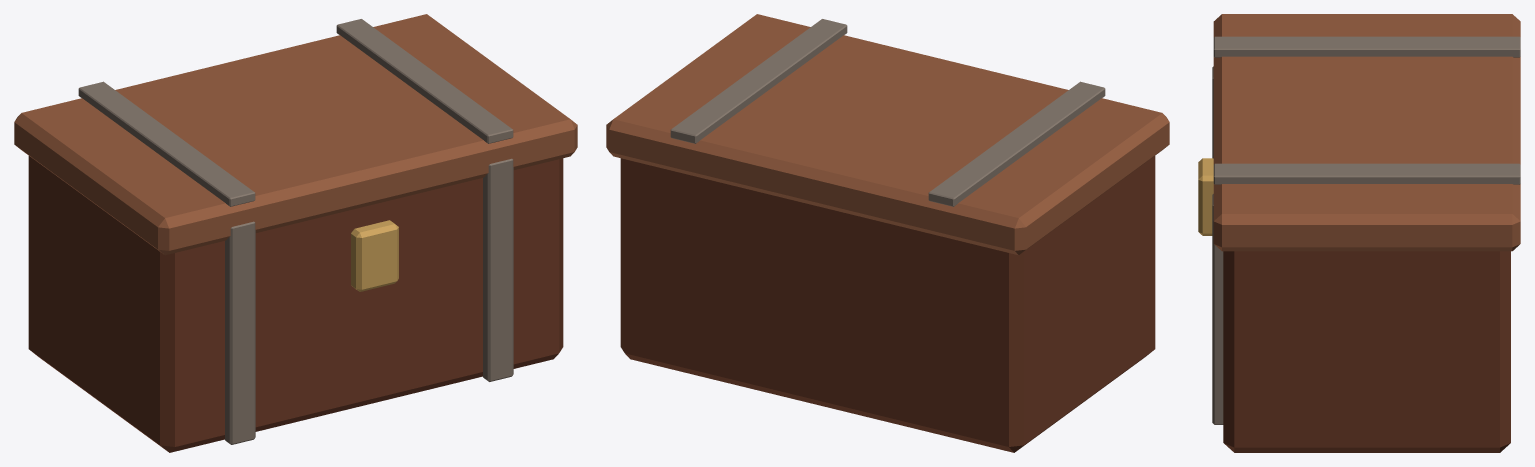
Rendered from wooden_chest.glb.
3 renders of one model, left to right at view 1: azimuth 30°, elevation 25°; view 2: azimuth 150°, elevation 25°; view 3: azimuth 270°, elevation 25°, orthographic.
Parts seen in each view (by area): view 1: Case, Lid, Band, Band_001, TopBand, TopBand_001, Lock; view 2: Case, Lid, TopBand, TopBand_001; view 3: Lid, Case, TopBand_001, TopBand, Band_001, Lock.
Part boxes in pixels (x1,y1,x2,y2): Case: (28,156,563,452); Lid: (14,14,577,255); Band: (225,221,255,444); Band_001: (483,158,513,381); TopBand: (78,81,255,206); TopBand_001: (336,19,513,143); Lock: (351,220,398,291); Case: (620,156,1155,452); Lid: (606,14,1169,255); TopBand: (928,81,1105,206); TopBand_001: (670,19,847,143); Lid: (1213,14,1520,251); Case: (1223,251,1510,452); TopBand_001: (1213,163,1520,184); TopBand: (1213,36,1520,57); Band_001: (1212,194,1223,424); Lock: (1198,158,1213,235).
Bounding box in the file's own units: 0.885 × 0.503 × 0.583.
